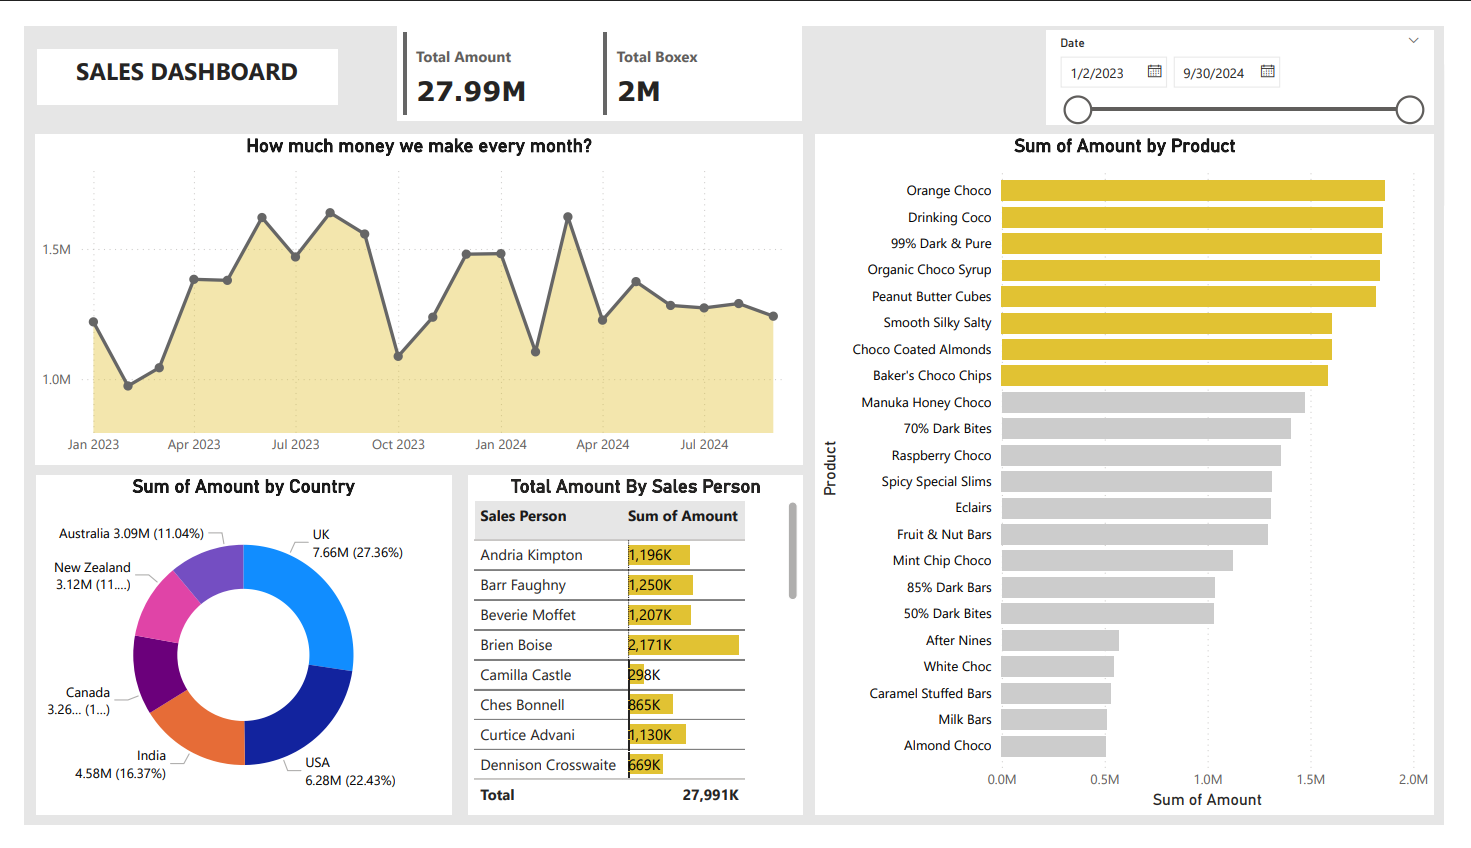

This screenshot's page, from the dashboard's own definition file:
{"tool":"powerbi","page":{"name":"Dashboard","canvas":[1280,720],"ordinal":0},"visuals":[{"type":"lineChart","title":"How much money we make every month?","fields":{"Category":["data.Date.Variation.Date Hierarchy.Year","data.Date.Variation.Date Hierarchy.Quarter","data.Date.Variation.Date Hierarchy.Month","data.Date.Variation.Date Hierarchy.Day"],"Y":["Sum(data.Amount)"]},"box":[10.3,96.8,692.1,298.3],"z":0},{"type":"donutChart","fields":{"Category":["data.Country"],"Y":["Sum(data.Amount)"]},"box":[10.3,404.1,374.4,306],"z":1000},{"type":"tableEx","title":"Total Amount By Sales Person","fields":{"Values":["data.Sales Person","Sum(data.Amount)"]},"box":[400.3,404.1,302.1,306],"z":2000},{"type":"barChart","fields":{"Category":["data.Product"],"Y":["Sum(data.Amount)"]},"box":[712.7,96.8,557.8,613.3],"z":3000},{"type":"cardVisual","fields":{"Data":["Sum(data.Amount)","Sum(data.Boxes)"]},"box":[336.2,0,364.9,84.8],"z":4000},{"type":"slicer","fields":{"Values":["data.Date"]},"box":[920.6,3,349.8,84.8],"z":5000},{"type":"textbox","box":[10.6,19.7,271,50],"z":6000}]}

Visuals, with their boxes in screenshot pixels (x1, y1, x2, y2), scaled from the page's 1280x720 canvas onto the 1471x848 screenshot:
"How much money we make every month?" lineChart: select_region(12, 114, 807, 465)
donutChart - data.Country x Sum(data.Amount): select_region(12, 476, 442, 836)
"Total Amount By Sales Person" tableEx: select_region(460, 476, 807, 836)
barChart - data.Product x Sum(data.Amount): select_region(819, 114, 1460, 836)
cardVisual - Sum(data.Amount) x Sum(data.Boxes): select_region(386, 0, 806, 100)
slicer - data.Date: select_region(1058, 4, 1460, 103)
textbox: select_region(12, 23, 324, 82)
